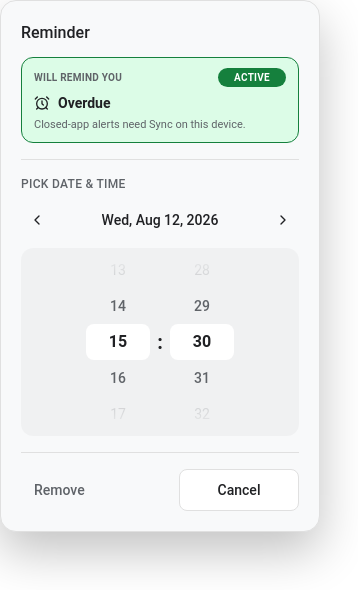
Scenario: ReminderPicker date and time controls › keeps day arrows independent of the month/year picker
(page scrolled)
Click the button named "Next day" at (283, 220), box [267, 204, 299, 236]
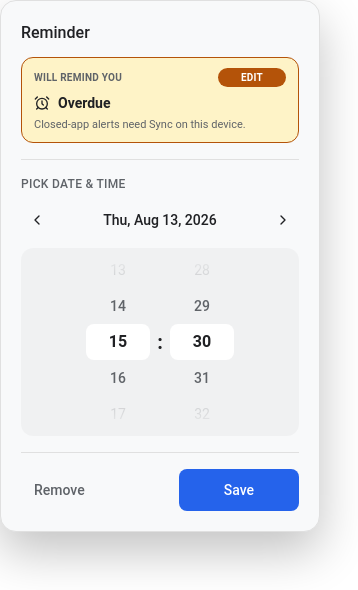
expect the button with aria-label "Choose date" shows "13": met, box [57, 204, 263, 236]
